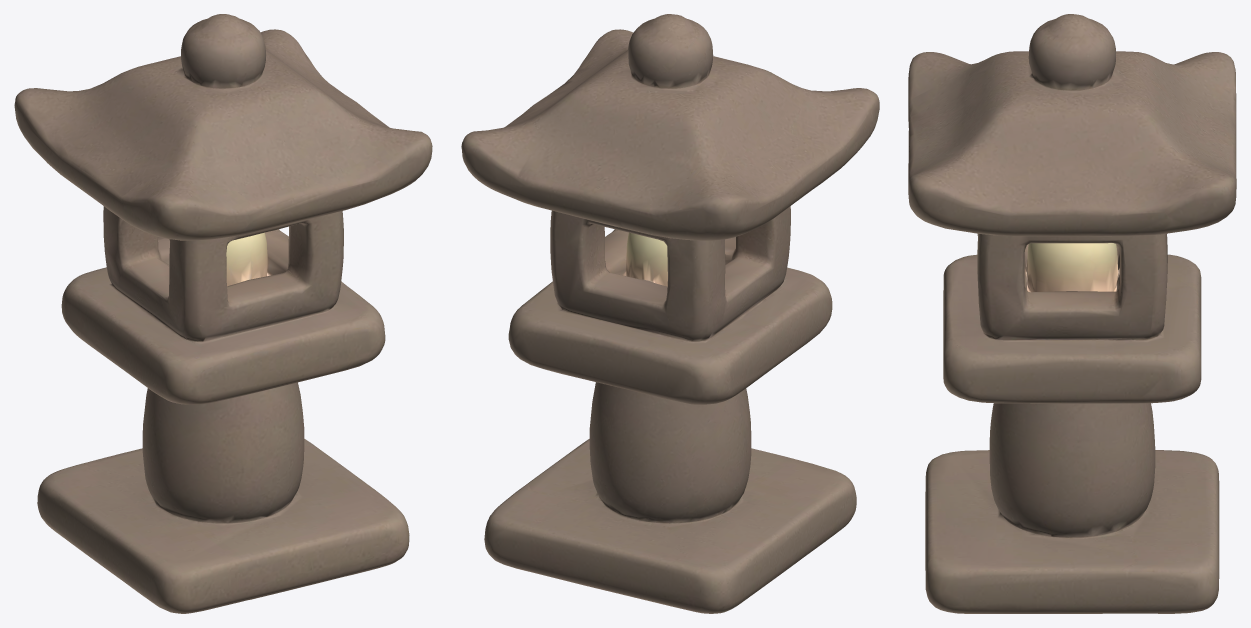
Rendered from deco-lantern.glb.
3 views of the same model, side by side, from view 1: azimuth 30°, elevation 25°; view 2: azimuth 150°, elevation 25°; view 3: azimuth 270°, elevation 25° (orthographic). The views are drawn at different scales.
Bounding box in the file's own units: 1.04 × 1.9 × 1.04.
1 material, 1 textured.
